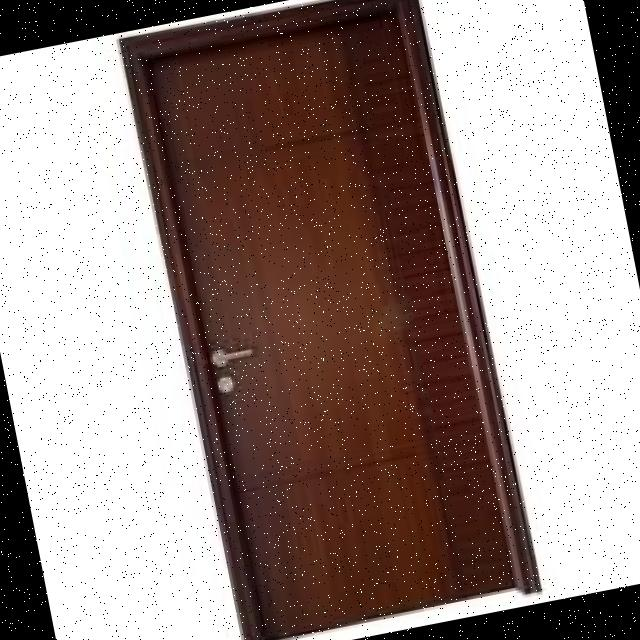Door: (140, 1, 518, 640)
